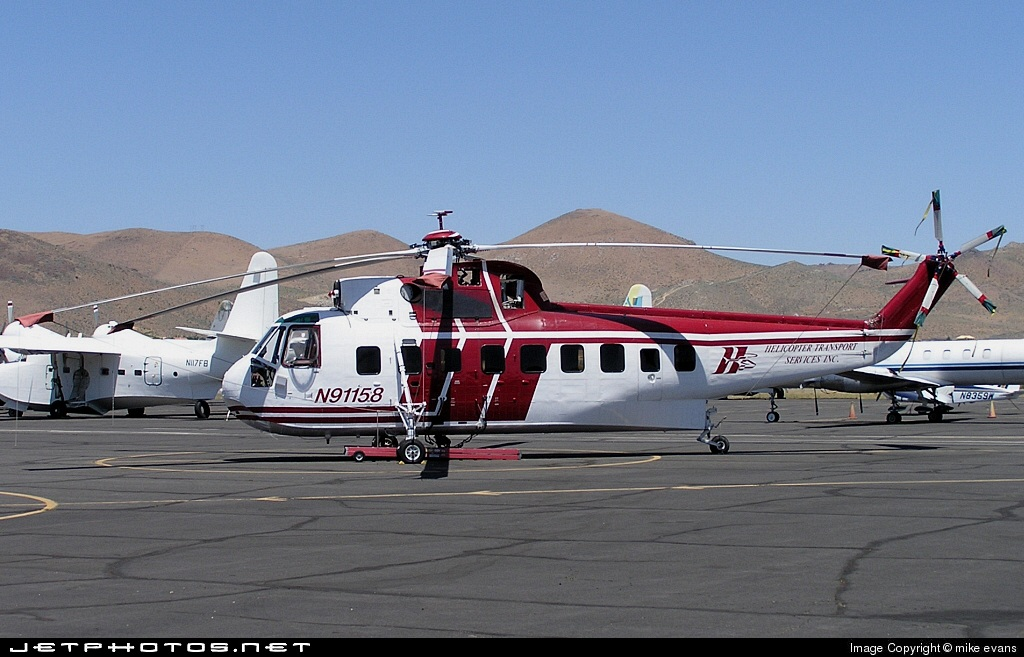number: (309, 385, 388, 404)
